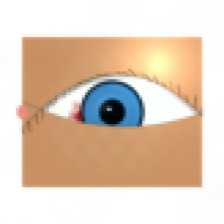hemorrhage_spot: (63, 83, 148, 151)
